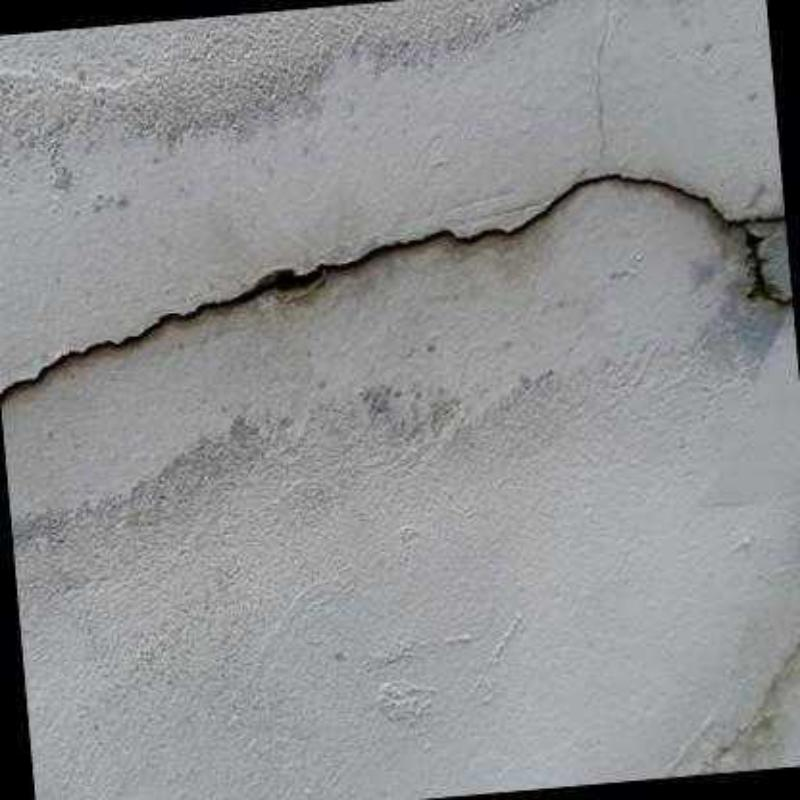pothole: (1, 174, 794, 409)
